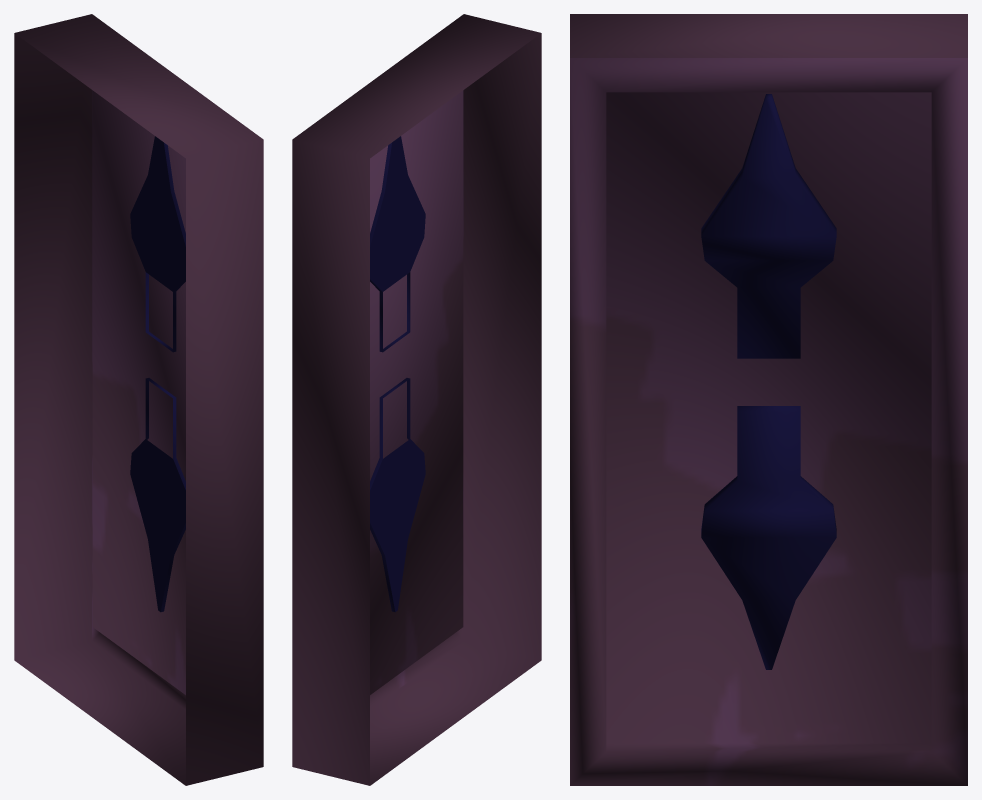
The model's file is ElevadorBotoes.fbx.
The picture shows the model from 3 angles, left to right: view 1: azimuth 30°, elevation 25°; view 2: azimuth 150°, elevation 25°; view 3: azimuth 270°, elevation 25°; orthographic projection. The views are drawn at different scales.
Parts seen in each view (by area): view 1: ElevadorBotoes; view 2: ElevadorBotoes; view 3: ElevadorBotoes.
Boxes of the visible parts, x1,y1,x2,y2 form: ElevadorBotoes: (14, 14, 263, 785); ElevadorBotoes: (292, 14, 541, 785); ElevadorBotoes: (570, 14, 967, 785).
Size of the model in its own units: 15.8 by 58.43 by 118.
